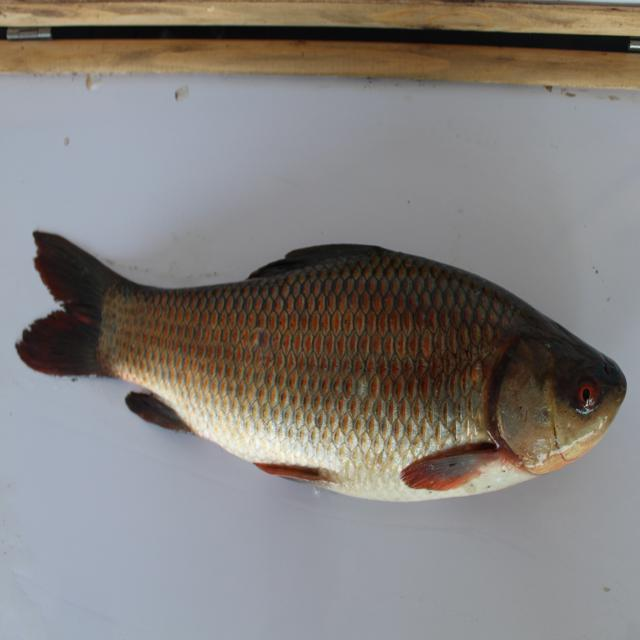Rohu: (19, 220, 631, 535)
